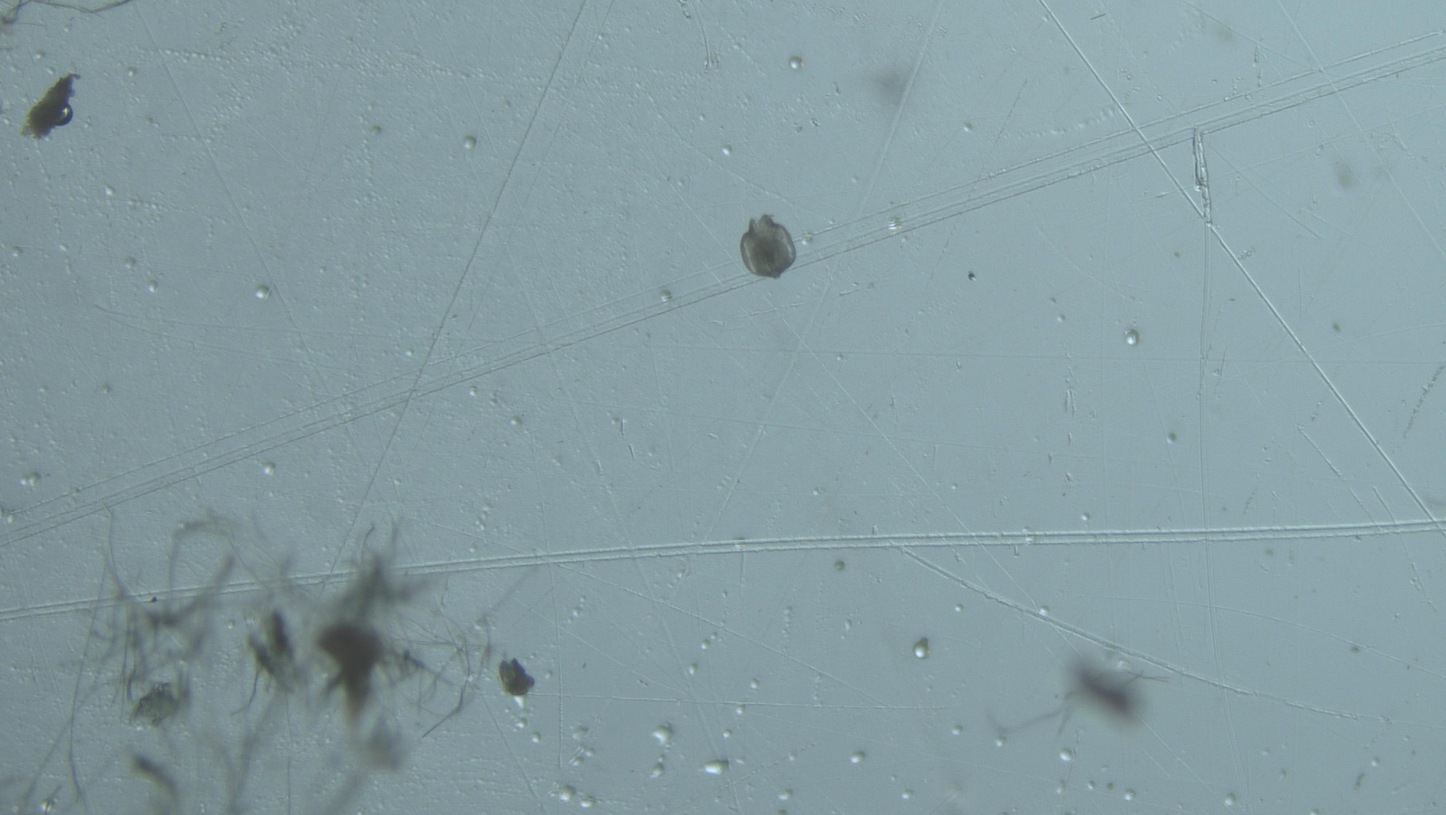live: (740, 214, 797, 279)
